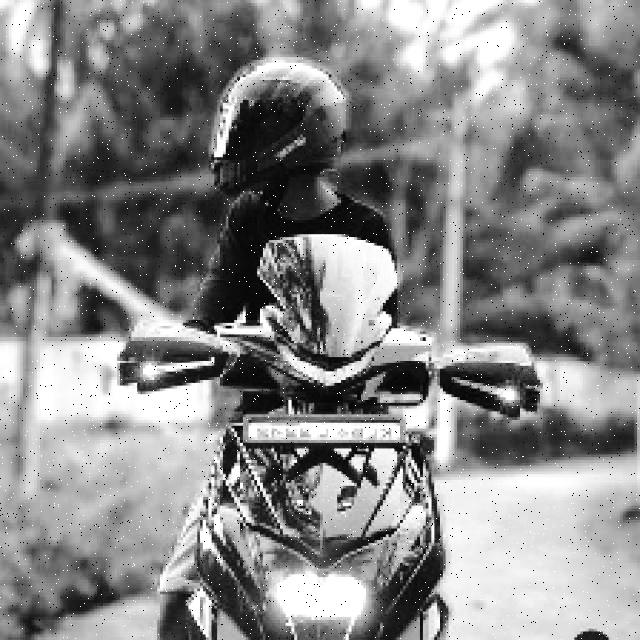Bike: (158, 270, 518, 640)
